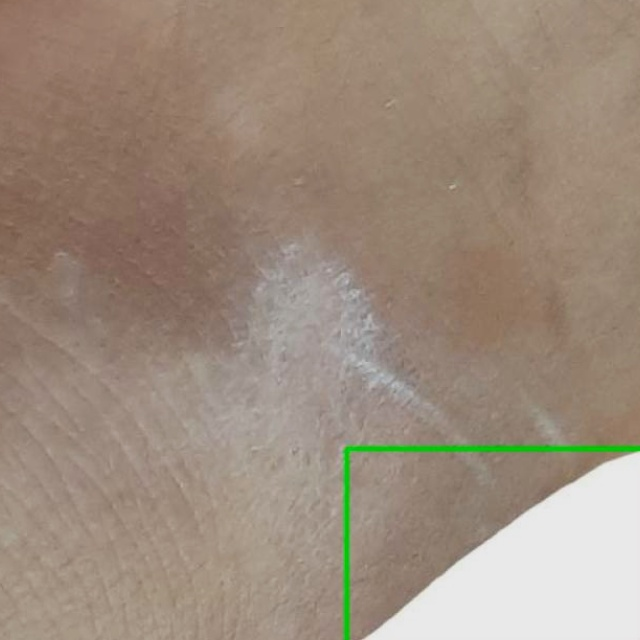Contact Dermatitis: (346, 449, 639, 639)
